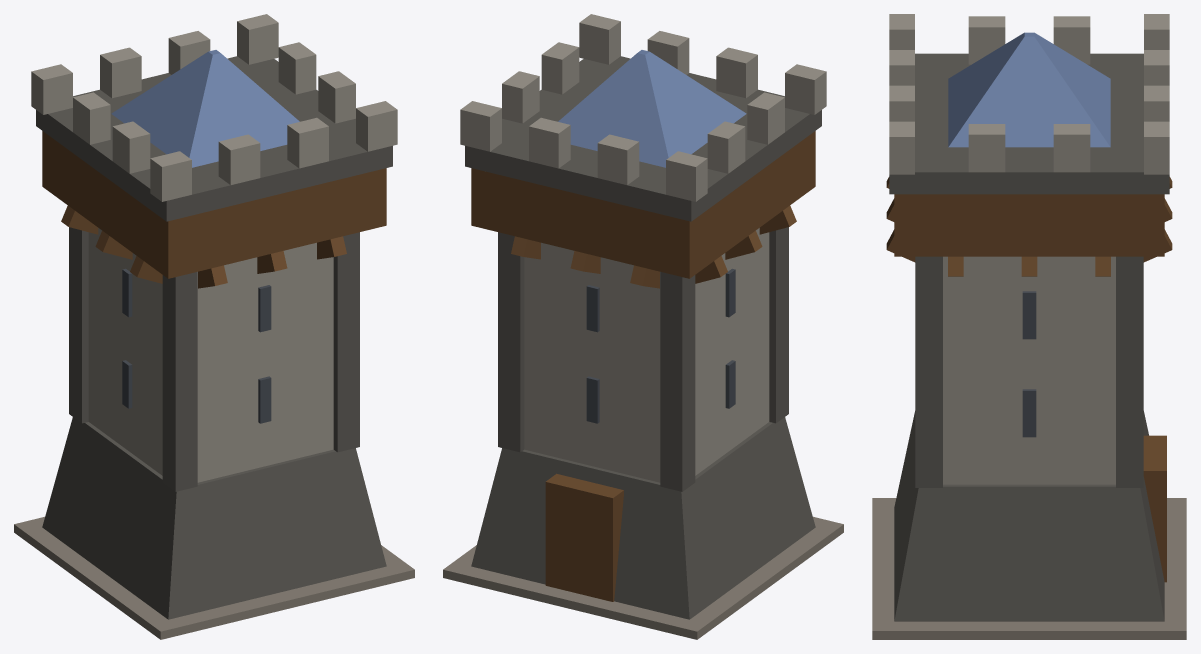
Rendered from DefenseTower.obj.
3 views of the same model, side by side, from view 1: azimuth 30°, elevation 25°; view 2: azimuth 150°, elevation 25°; view 3: azimuth 270°, elevation 25° (orthographic). The views are drawn at different scales.
Visible parts, largest first — view 1: DefenseTower_dark_stone, DefenseTower_stone, DefenseTower_timber, DefenseTower_roof_team, DefenseTower_cobble, DefenseTower_iron; view 2: DefenseTower_dark_stone, DefenseTower_stone, DefenseTower_timber, DefenseTower_roof_team, DefenseTower_cobble, DefenseTower_iron; view 3: DefenseTower_dark_stone, DefenseTower_stone, DefenseTower_timber, DefenseTower_roof_team, DefenseTower_cobble, DefenseTower_iron.
Boxes of the visible parts, x1,y1,x2,y2 form: DefenseTower_dark_stone: (36,56,392,619); DefenseTower_stone: (31,14,397,482); DefenseTower_timber: (42,131,386,288); DefenseTower_roof_team: (111,50,299,167); DefenseTower_cobble: (14,516,414,639); DefenseTower_iron: (122,268,271,423); DefenseTower_dark_stone: (465,56,821,619); DefenseTower_stone: (460,14,826,482); DefenseTower_timber: (471,131,815,601); DefenseTower_roof_team: (558,50,746,167); DefenseTower_cobble: (443,516,843,639); DefenseTower_iron: (586,268,735,423); DefenseTower_dark_stone: (889,53,1169,621); DefenseTower_stone: (889,14,1169,484); DefenseTower_timber: (886,177,1172,582); DefenseTower_roof_team: (948,32,1110,147); DefenseTower_cobble: (872,498,1186,639); DefenseTower_iron: (1022,291,1036,437).
Size of the model in its own units: 3.2 by 6.05 by 3.2.
